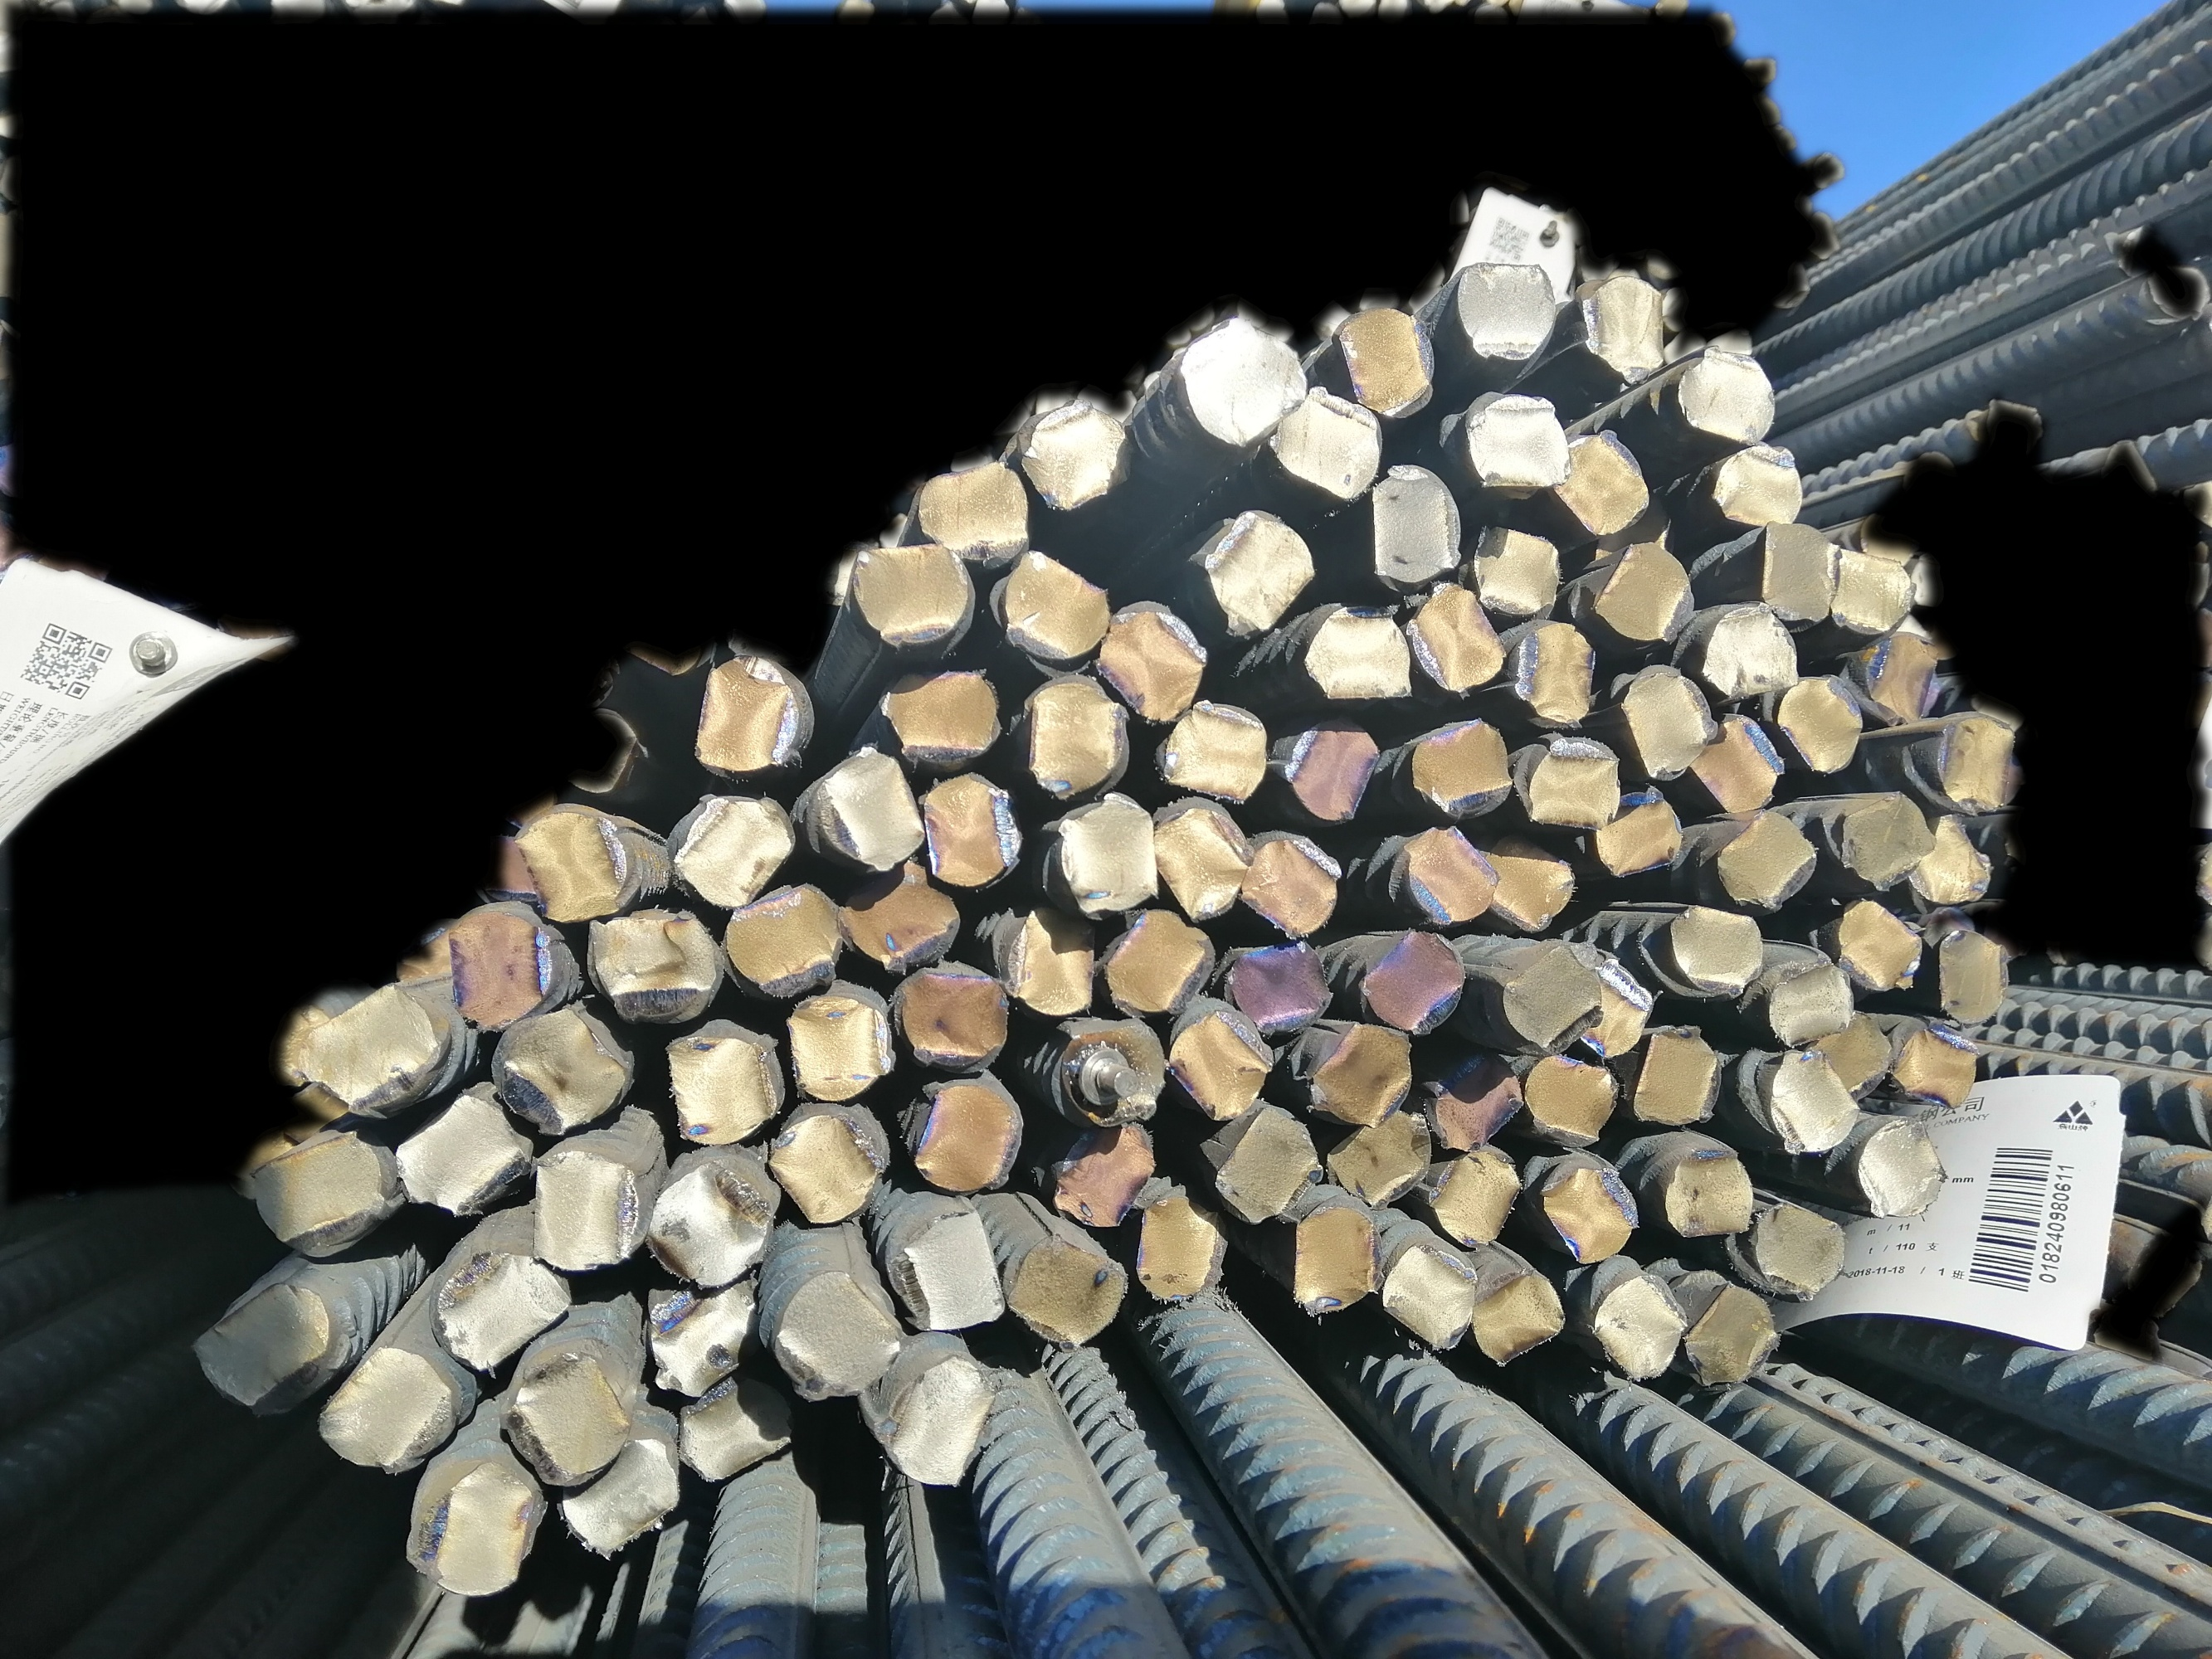rebar: (190, 1276, 336, 1420), (499, 1349, 641, 1492), (300, 978, 439, 1121), (397, 1453, 535, 1598), (647, 1155, 784, 1297), (1175, 315, 1313, 451), (310, 1347, 453, 1474), (492, 1004, 626, 1138), (253, 1131, 389, 1262), (434, 1249, 575, 1375), (873, 1349, 997, 1488), (397, 1089, 523, 1220), (774, 1267, 898, 1399), (439, 899, 561, 1030), (990, 547, 1112, 676), (558, 1434, 682, 1560), (526, 1147, 645, 1276), (889, 1202, 1008, 1331), (1198, 507, 1316, 636), (587, 908, 720, 1023), (1009, 1227, 1133, 1349), (512, 802, 633, 925), (662, 1025, 783, 1148), (1025, 669, 1133, 805), (852, 537, 973, 659), (913, 1072, 1034, 1194), (675, 1373, 802, 1488), (725, 878, 844, 1000), (675, 795, 798, 911), (838, 856, 960, 972), (695, 653, 807, 779), (814, 746, 926, 871), (1271, 382, 1386, 502), (645, 1276, 758, 1398), (1096, 605, 1210, 727), (919, 763, 1025, 892), (767, 1112, 882, 1230), (919, 455, 1034, 572), (892, 955, 1009, 1070), (877, 666, 1004, 770), (1055, 791, 1159, 918), (1494, 936, 1605, 1054), (1166, 1007, 1279, 1122), (1021, 397, 1133, 514), (1452, 256, 1564, 371), (786, 988, 896, 1105), (1211, 1105, 1316, 1227), (1616, 660, 1717, 786), (1332, 303, 1442, 418), (1222, 936, 1337, 1044), (1408, 579, 1508, 701), (1105, 908, 1215, 1018), (1417, 1044, 1525, 1155), (1055, 1117, 1159, 1232), (1377, 1239, 1482, 1354), (1239, 831, 1344, 946), (1154, 702, 1269, 807), (1365, 462, 1461, 587), (1056, 1025, 1175, 1126), (1150, 800, 1252, 918), (1300, 605, 1417, 706), (1353, 929, 1466, 1032), (1588, 1270, 1691, 1384), (1288, 1202, 1384, 1319), (1574, 270, 1670, 387), (1281, 716, 1382, 826), (1680, 1277, 1780, 1389), (1593, 540, 1705, 640), (1133, 1188, 1229, 1304), (1466, 1263, 1569, 1370), (1466, 389, 1569, 495), (1408, 718, 1515, 821), (1694, 599, 1802, 701), (1311, 1023, 1414, 1127), (1478, 828, 1578, 936), (1553, 427, 1651, 537), (1675, 345, 1778, 448), (1713, 812, 1818, 913), (1834, 788, 1938, 889), (1328, 1110, 1435, 1209), (1513, 613, 1604, 728), (1394, 823, 1497, 924), (1541, 1162, 1639, 1267), (1006, 904, 1096, 1016), (1855, 1114, 1945, 1225), (1520, 737, 1623, 835), (1689, 713, 1787, 816), (1590, 484, 1691, 582), (1759, 512, 1841, 633), (1522, 1053, 1619, 1152), (1426, 1145, 1518, 1249), (1931, 709, 2022, 816), (1771, 1049, 1860, 1157), (1903, 807, 1999, 906), (1668, 899, 1762, 1000), (1754, 1195, 1846, 1298), (1827, 535, 1919, 636), (1762, 948, 1856, 1046), (1855, 631, 1949, 727), (1774, 673, 1863, 774), (1705, 441, 1802, 532), (1633, 1025, 1722, 1124), (1835, 892, 1924, 990), (1469, 519, 1560, 612), (1665, 1145, 1754, 1239), (1595, 788, 1686, 878), (1930, 929, 2010, 1030), (1581, 950, 1654, 1056), (1811, 1004, 1891, 1100), (1893, 1021, 1977, 1107)
